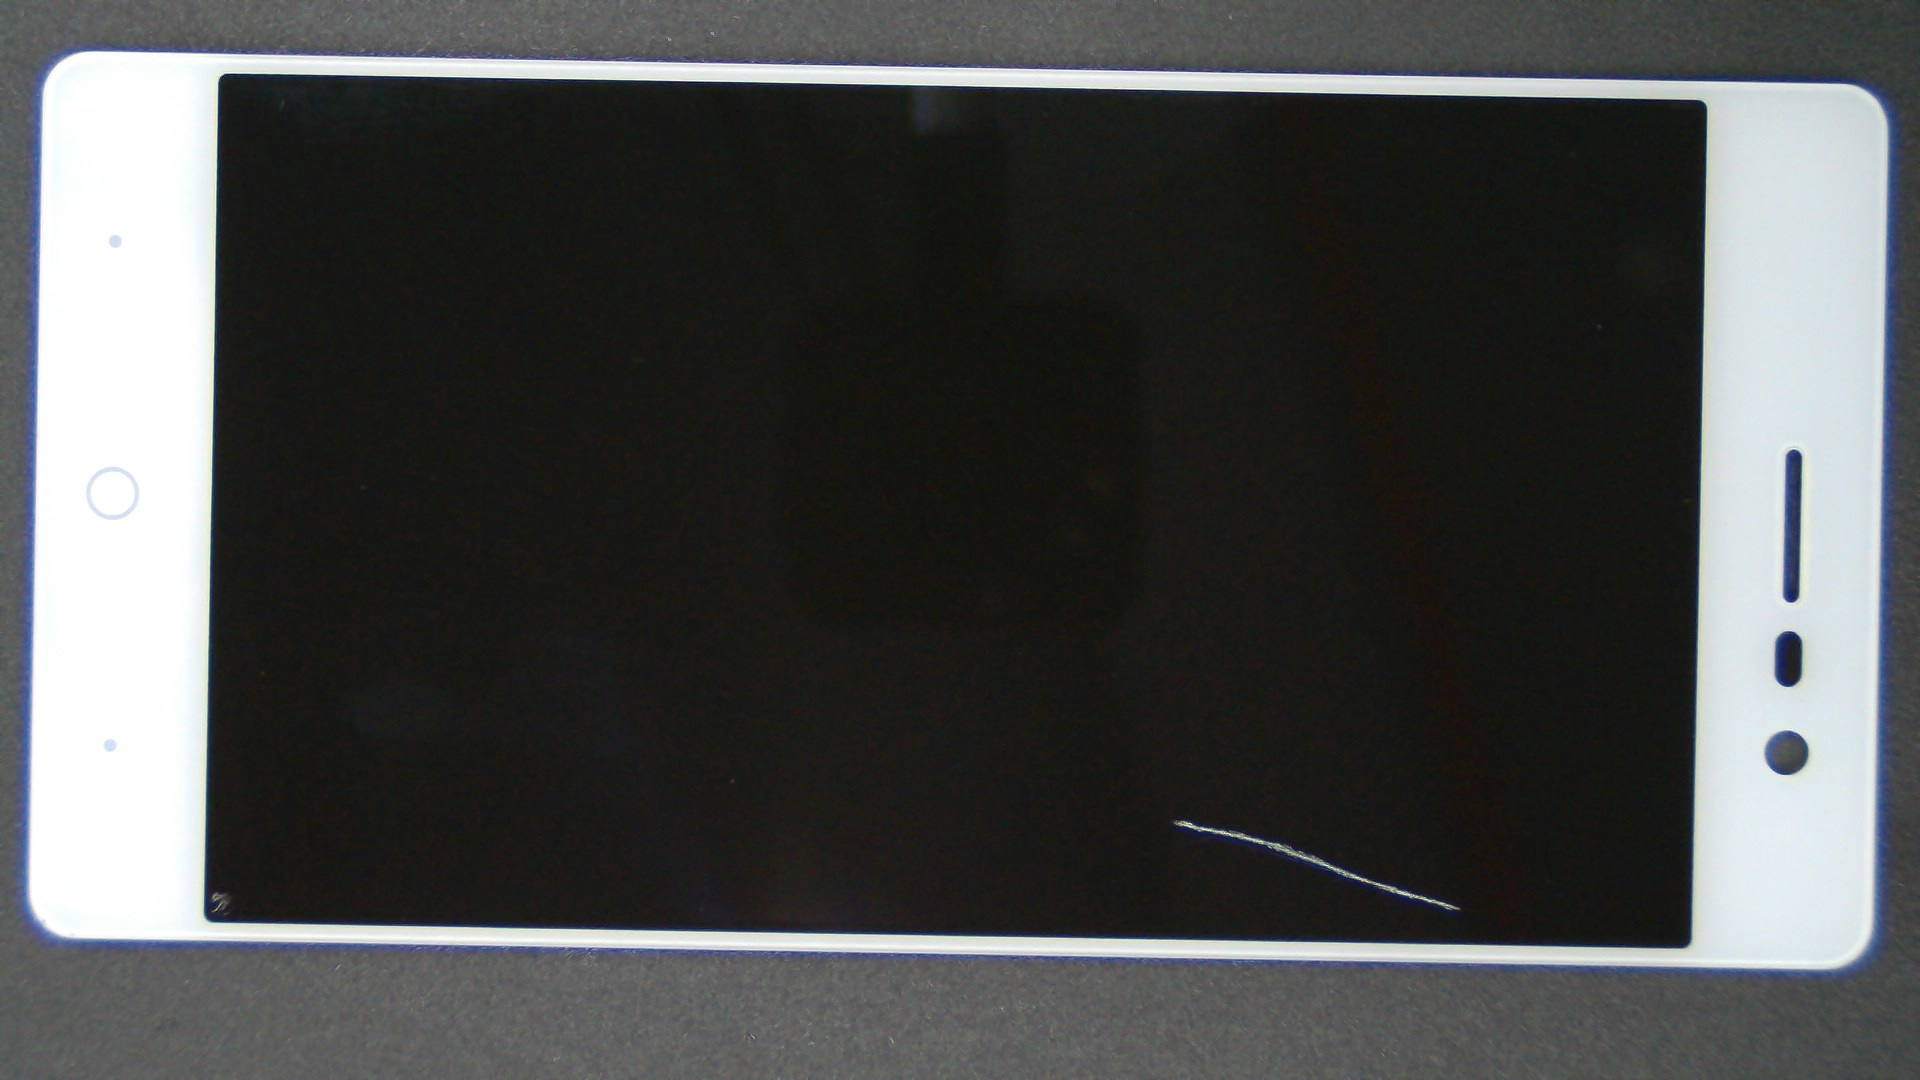oil: (589, 409, 1764, 1080), (109, 444, 328, 1080)
